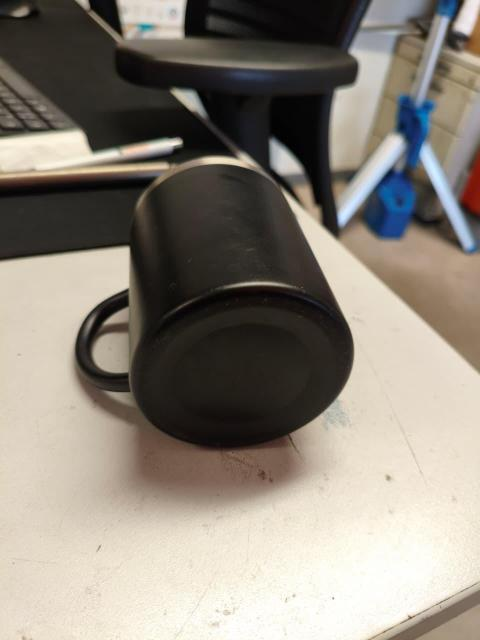Metal: (70, 160, 355, 425)
